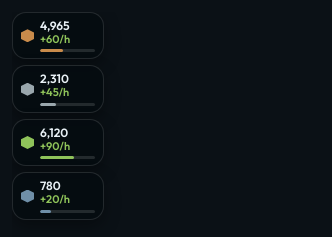
Test: ResourceBar (landscape rail) › is two lines per pill when tall: stock, then the rate; a tap swaps only the second line to the cap
Expected: the text "4,965" is shown, [40, 18, 70, 33]
Expected: the text "+60/h" is shown, [40, 32, 70, 46]
What coordinates should you click on to do the following:
click the button with class "resource--compact" showing "4,965 +60/h"
I would click on:
 (58, 36)
Its box is [12, 12, 104, 59].
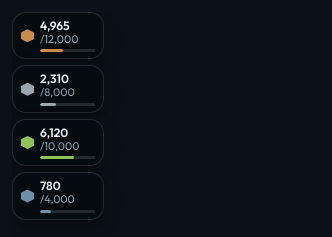
Expected: the text "4,965" is shown, [40, 18, 70, 33]
Expected: the text "/12,000" is shown, [40, 32, 78, 46]
Expected: the text "/8,000" is shown, [40, 85, 75, 99]
What coordinates should you click on to do the following:
click the button with class "resource--compact" showing "4,965 /12,000"
I would click on:
 (58, 36)
Its box is [12, 12, 104, 59].
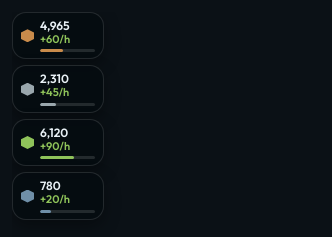
Expected: the text "+60/h" is shown, [40, 32, 70, 46]
